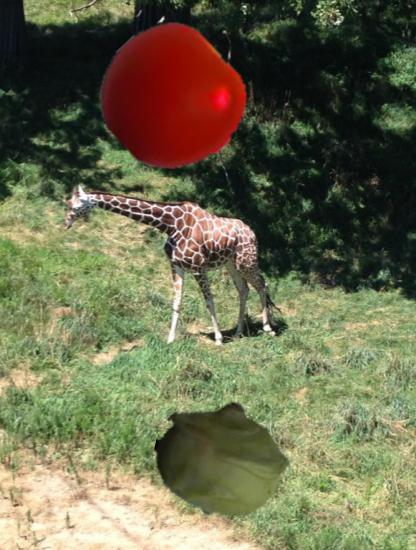Kohlrabi: (154, 391, 290, 527)
Tomato: (99, 27, 242, 170)
